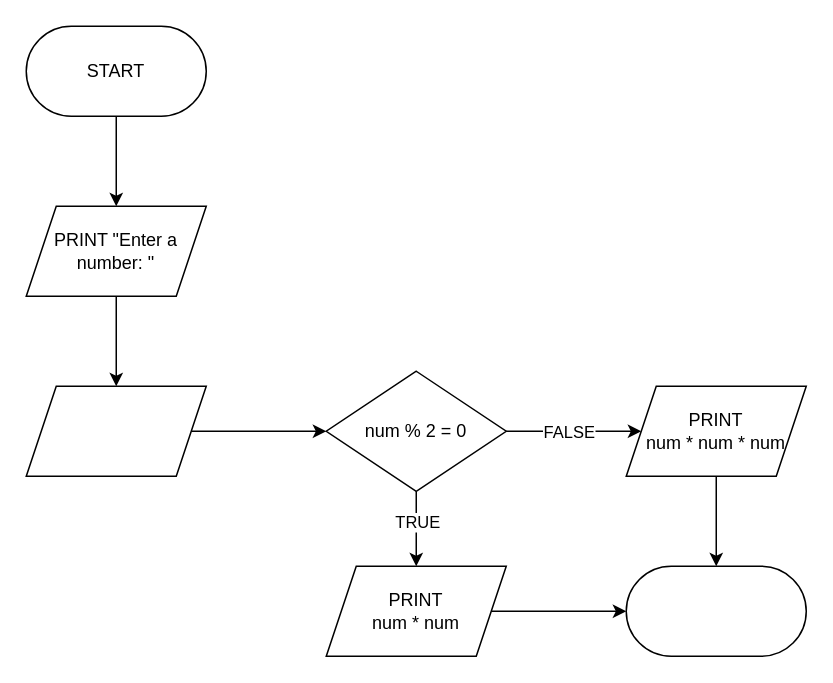
Some shapes in this 833 by 683 pixel diagram are drawn without their labels. The centre of each missing label's shape, as x and y in pixels:
END: [715,610]
READ num: [115,430]
